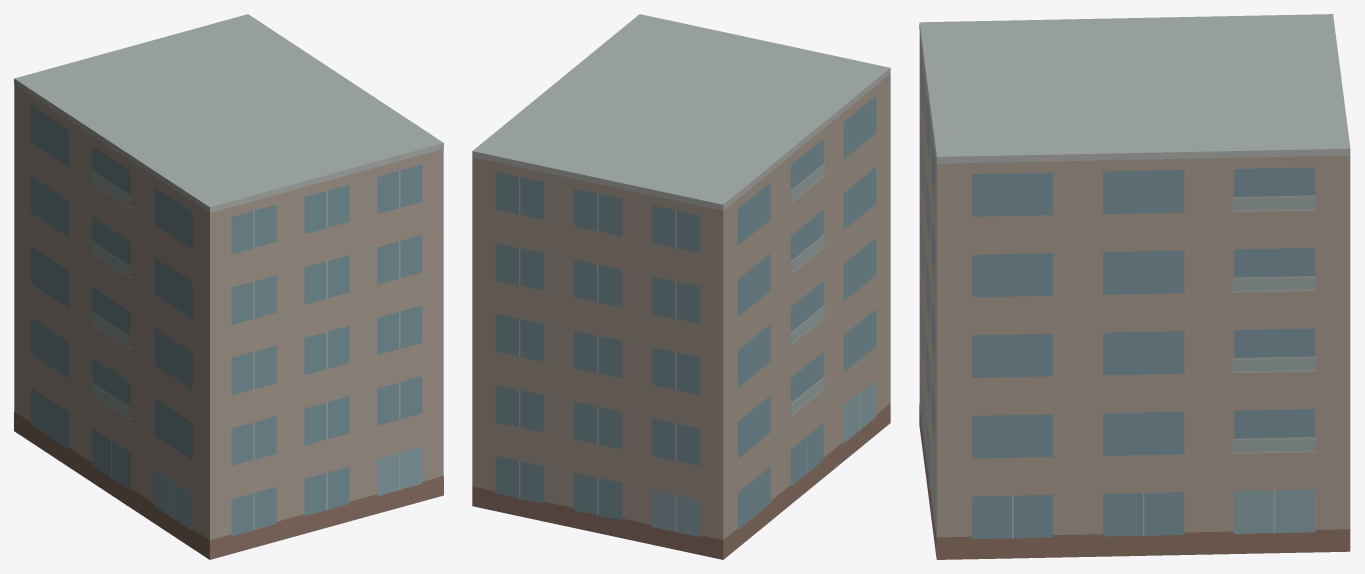
File: survey-upis-32631300.glb
The picture shows the model from 3 angles, left to right: view 1: azimuth 30°, elevation 25°; view 2: azimuth 150°, elevation 25°; view 3: azimuth 270°, elevation 25°; orthographic projection. The views are drawn at different scales.
Visible parts, largest first — view 1: survey-upis-32631300.tmp; view 2: survey-upis-32631300.tmp; view 3: survey-upis-32631300.tmp.
Boxes of the visible parts, x1=… form: survey-upis-32631300.tmp: x1=14, y1=14, x2=443, y2=559; survey-upis-32631300.tmp: x1=472, y1=14, x2=890, y2=559; survey-upis-32631300.tmp: x1=919, y1=14, x2=1350, y2=559.
Bounding box in the file's own units: 11.12 × 14.6 × 14.16.
